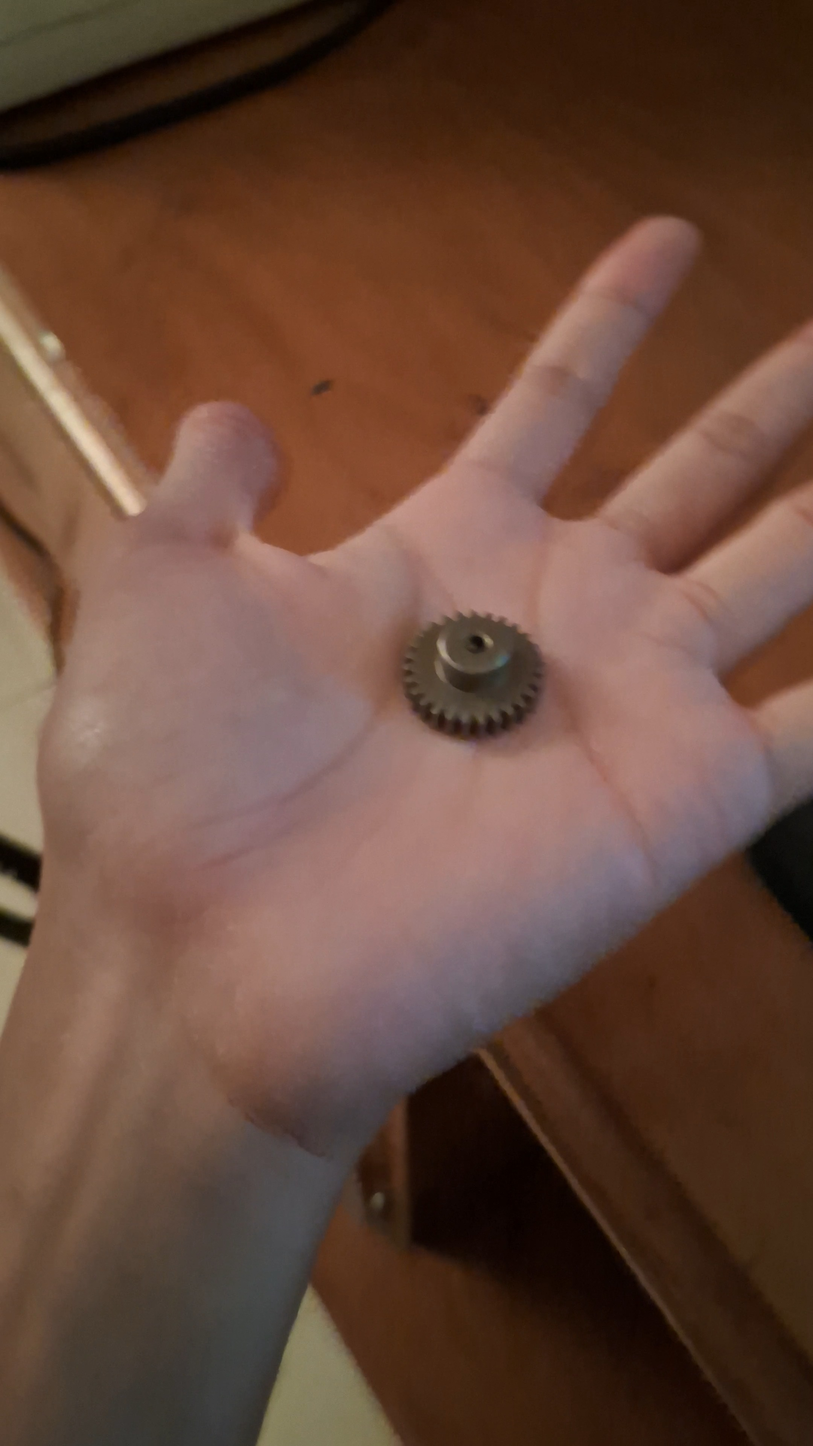spur gear: (403, 614, 542, 738)
